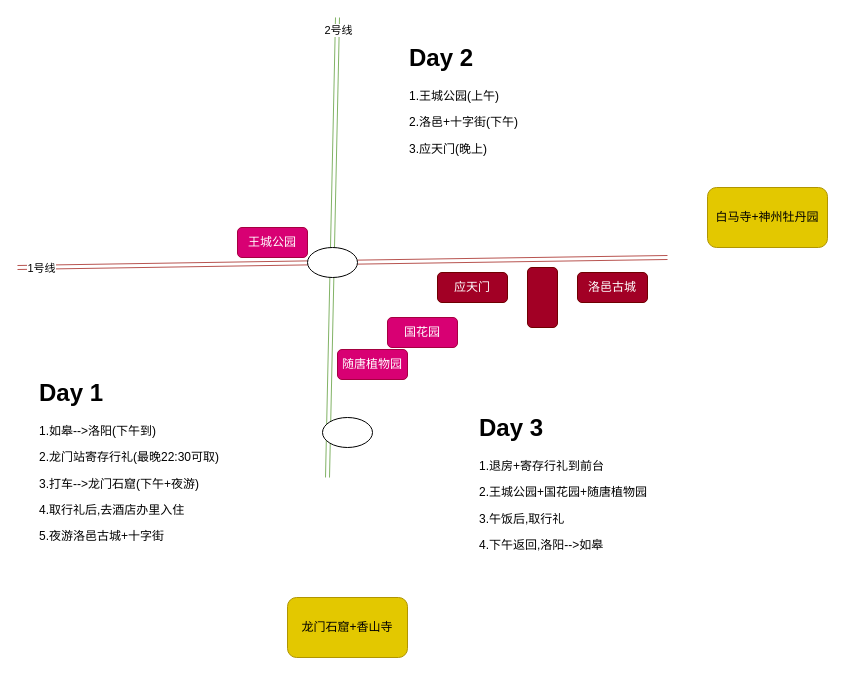
Image size: 846x676. Some labels were removed from this diagram. Each missing label, with the box of its shape:
十 字 街: (526, 266, 558, 328)
解放路站: (306, 246, 358, 278)
龙门站: (322, 416, 372, 448)
